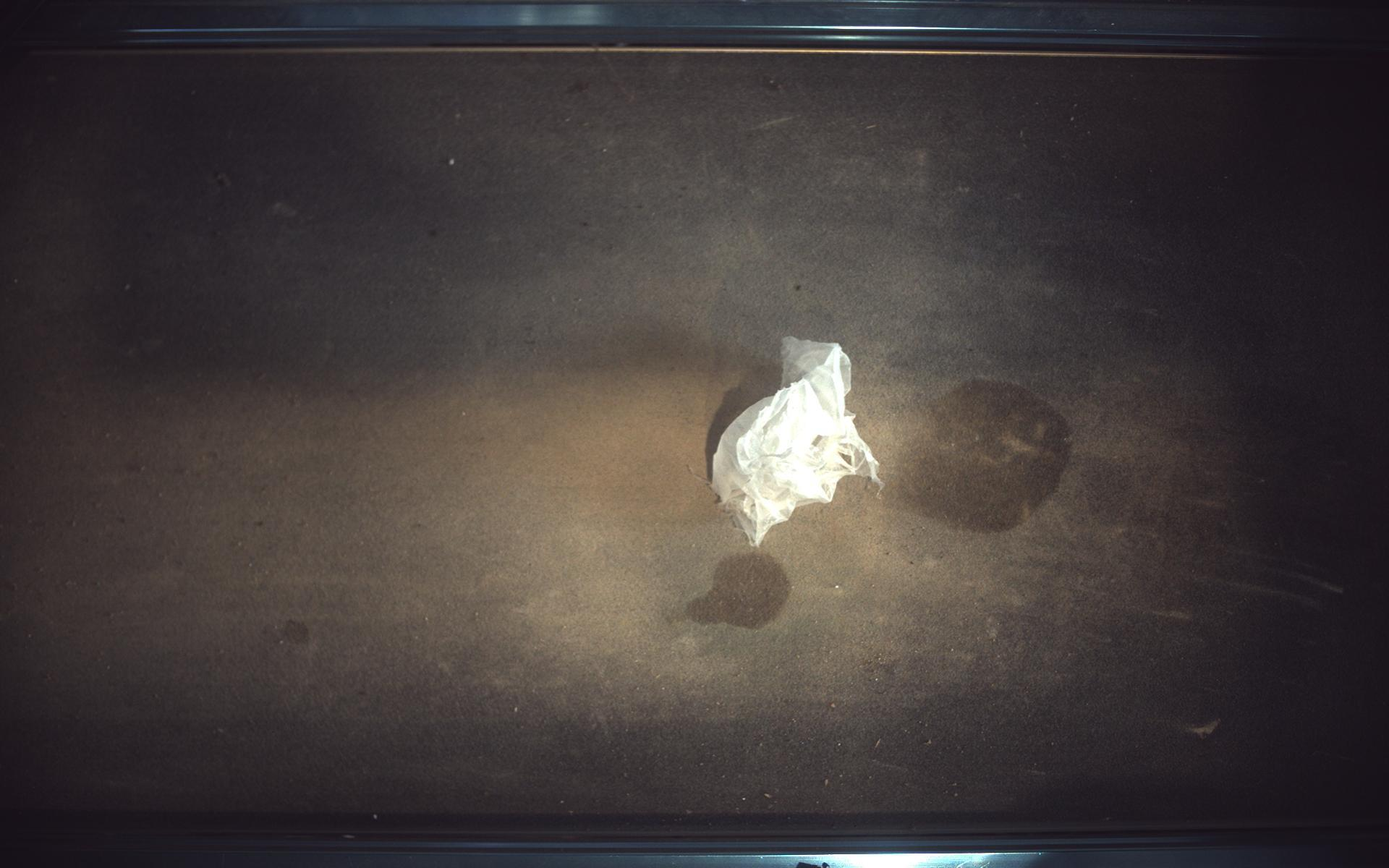general_w: (713, 336, 885, 547)
